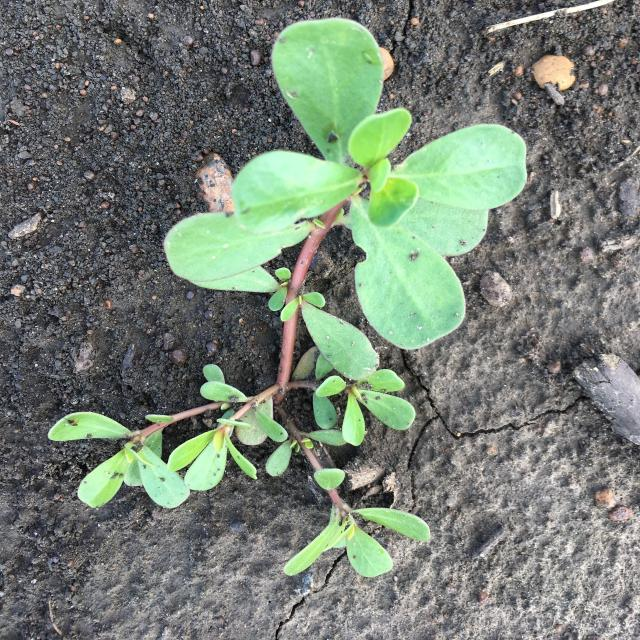Purslane: (49, 19, 527, 577)
